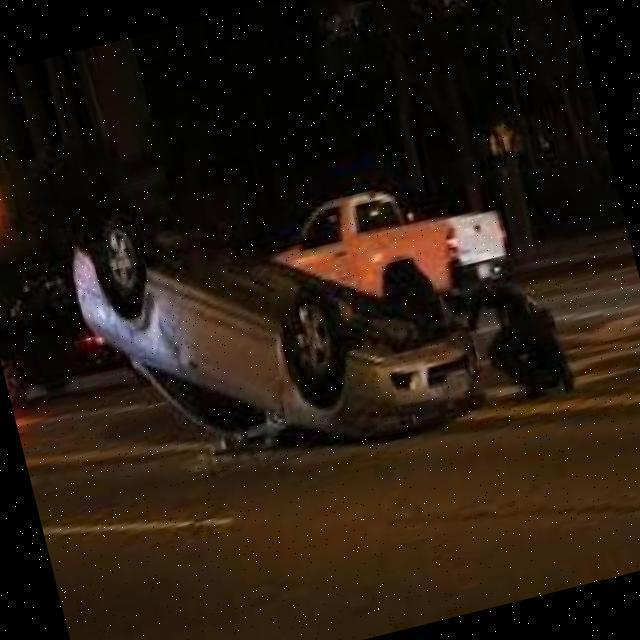accident: (58, 137, 494, 509)
